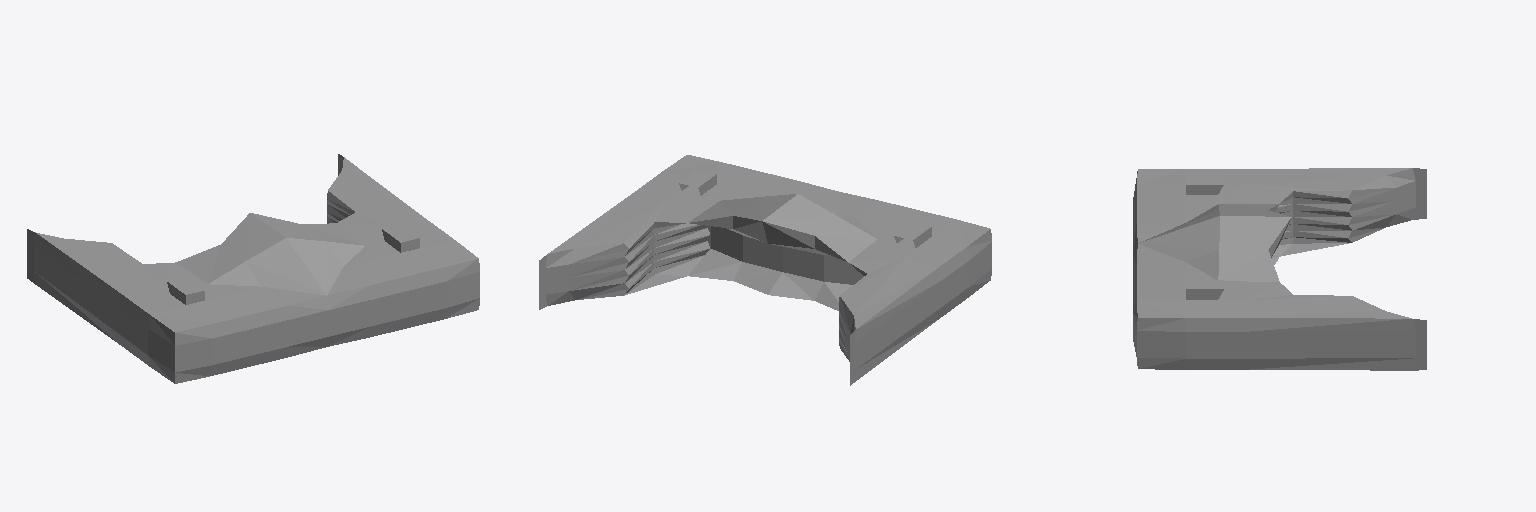
The model's file is boss.obj.
3 renders of one model, left to right at view 1: azimuth 30°, elevation 25°; view 2: azimuth 150°, elevation 25°; view 3: azimuth 270°, elevation 25°, orthographic.
Parts seen in each view (by area): view 1: Cube; view 2: Cube; view 3: Cube.
Part boxes in pixels (x1,y1,x2,y2): Cube: (27,154,479,383); Cube: (539,155,991,385); Cube: (1133,168,1426,370).
Bounding box in the file's own units: 12.2 × 3.02 × 10.